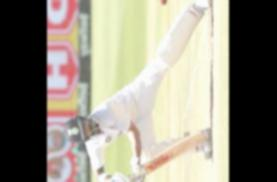batsman: (51, 0, 221, 182)
